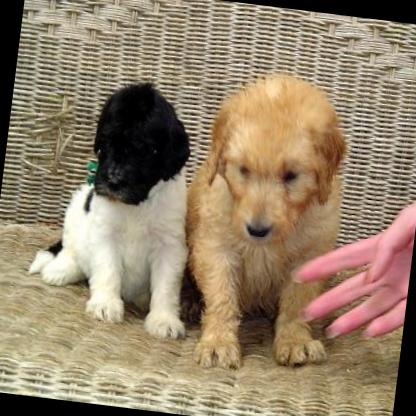miniature_poodle: (169, 58, 362, 382), (17, 68, 213, 342)
